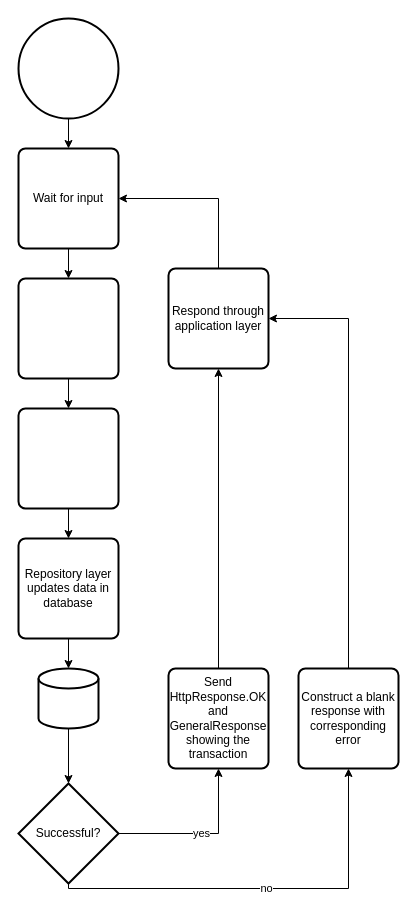
This 416x914 diagram has some shape labels left out. Each missing label, with the box of its shape:
Start: (17, 17, 119, 119)
Translator layer uses logic layer and domain to try update repository: (17, 407, 119, 509)
User transacts through application layer: (17, 277, 119, 379)
